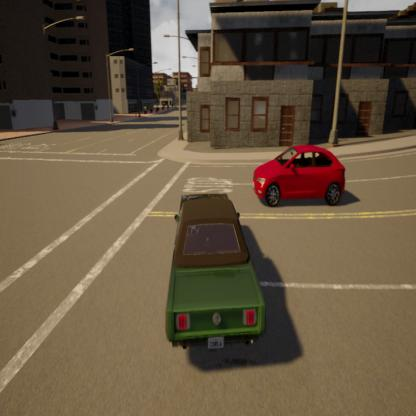Cars: (156, 178, 271, 360), (248, 141, 350, 209)
